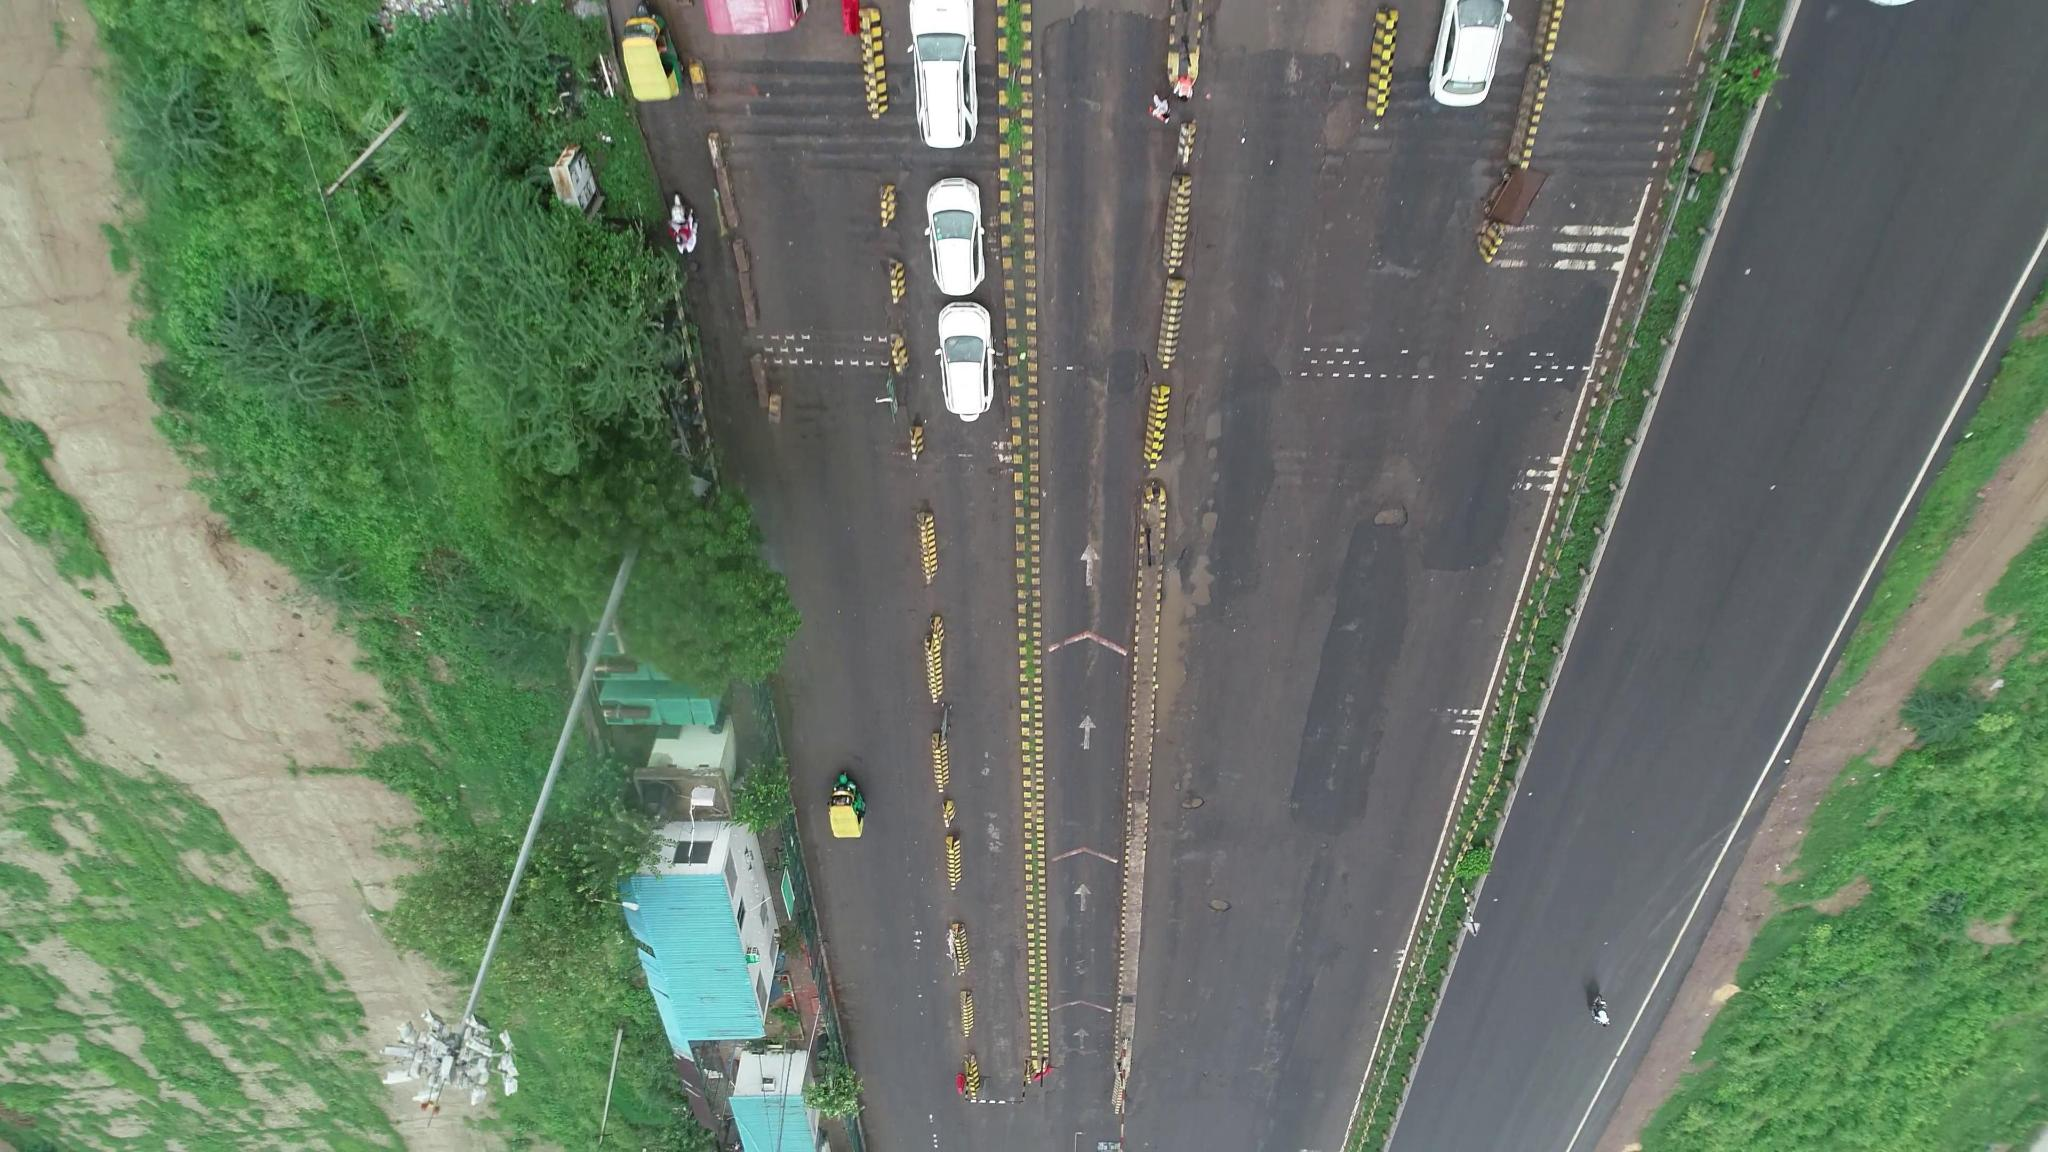Potholes: (1196, 395, 1243, 532), (1196, 876, 1266, 956), (1167, 762, 1241, 836), (1360, 491, 1435, 551)
